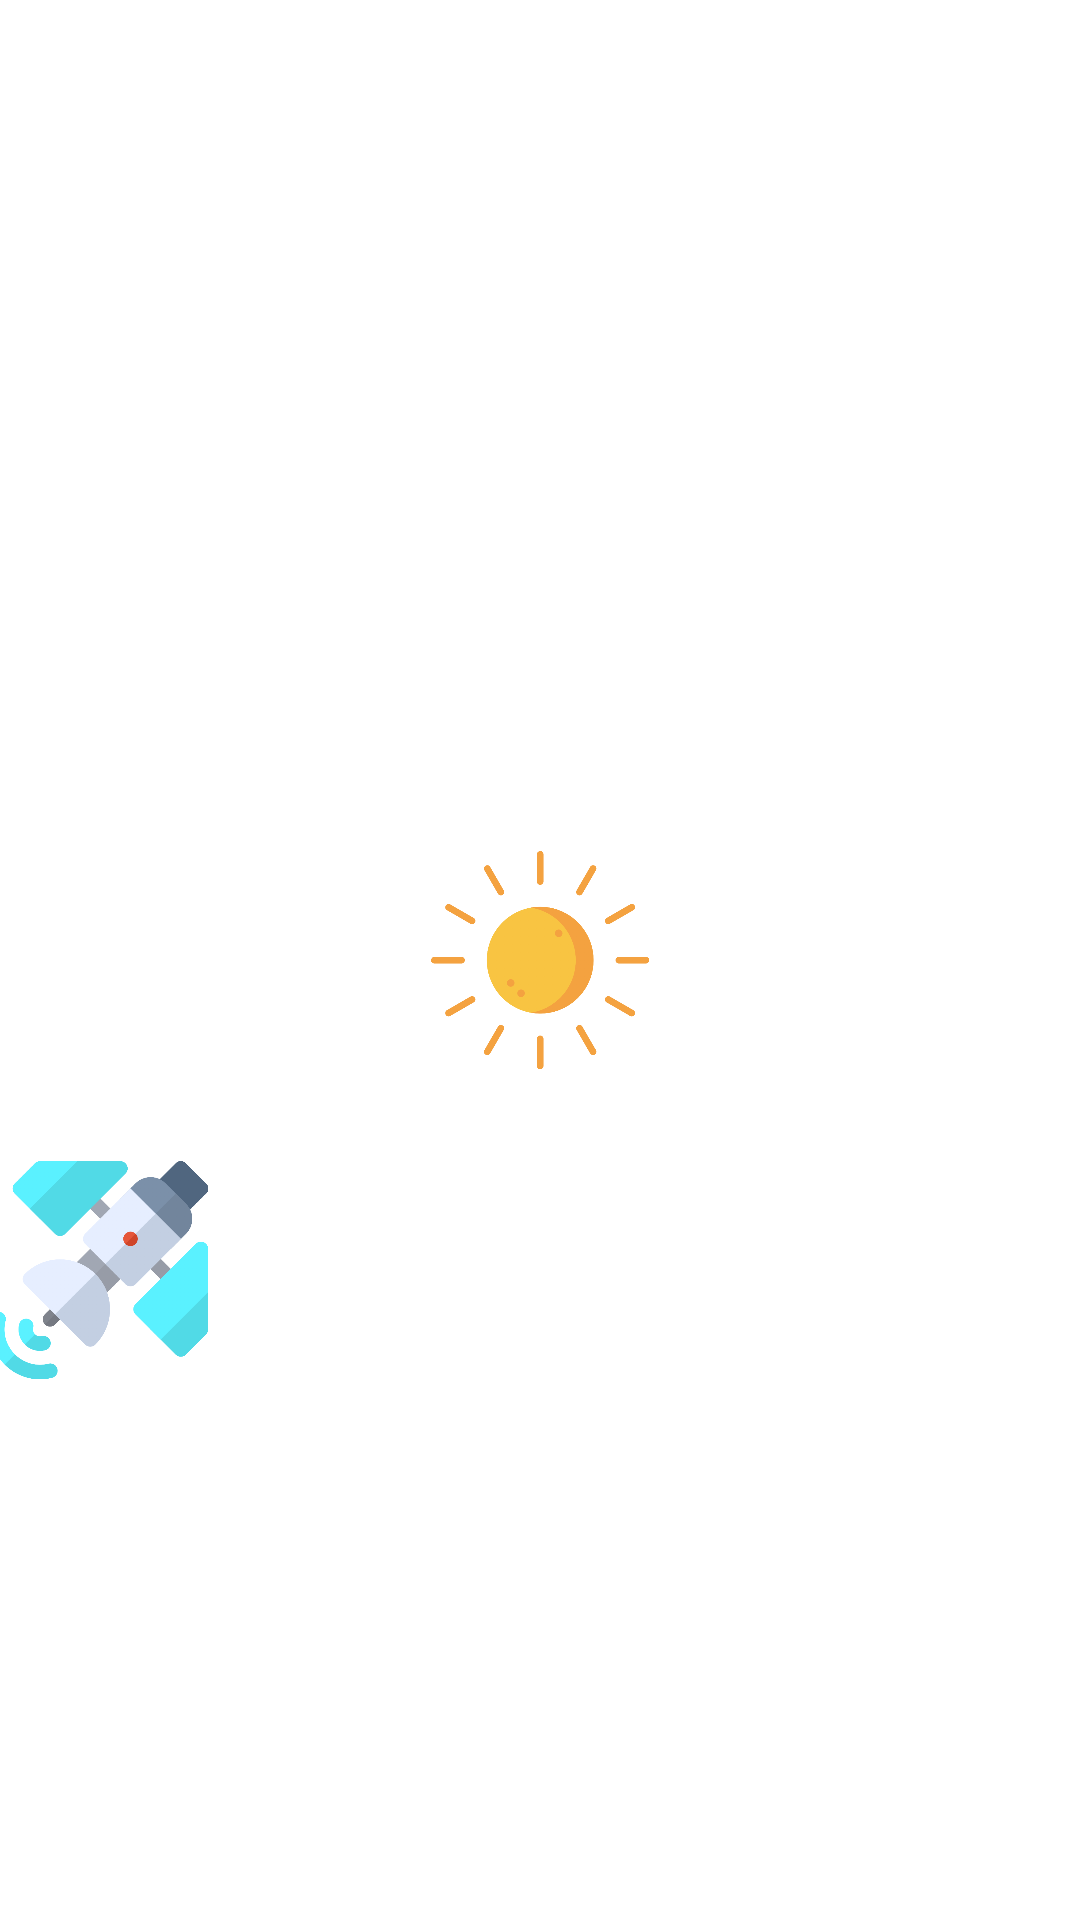

Icons on this 1080px x 1920px Android screen, each with its box as {"left": x1, "top": y1, "right": x2, "bottom": y2}:
satellite: {"left": 0, "top": 1161, "right": 208, "bottom": 1379}
